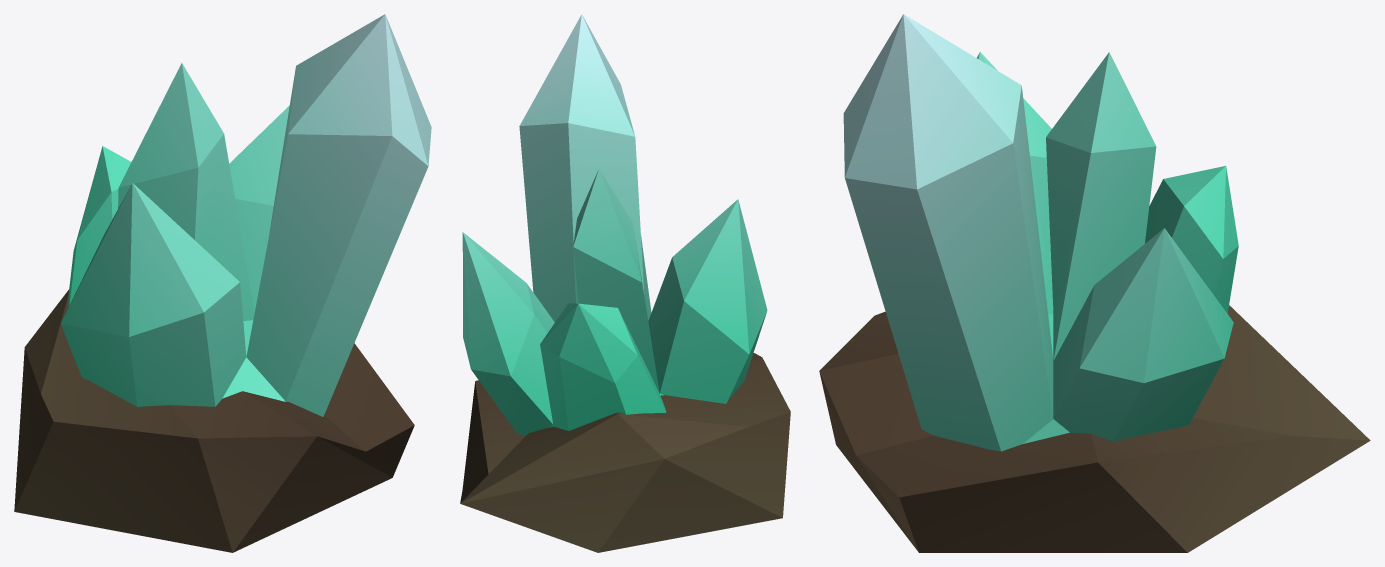
Rendered from Alamite Rock.fbx.
3 views of the same model, side by side, from view 1: azimuth 30°, elevation 25°; view 2: azimuth 150°, elevation 25°; view 3: azimuth 270°, elevation 25° (orthographic). The views are drawn at different scales.
Visible parts, largest first — view 1: ALAMITE ROCK.001; view 2: ALAMITE ROCK.001; view 3: ALAMITE ROCK.001.
Boxes of the visible parts, x1=… form: ALAMITE ROCK.001: x1=14, y1=14, x2=431, y2=552; ALAMITE ROCK.001: x1=460, y1=14, x2=790, y2=552; ALAMITE ROCK.001: x1=819, y1=14, x2=1370, y2=552.
Size of the model in its own units: 169 by 214 by 201.
Materials: 2 (2 with a texture image).
